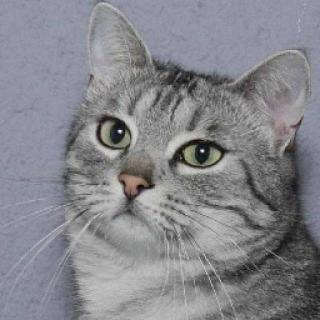cat: (59, 9, 302, 258)
nose: (116, 166, 157, 205)
